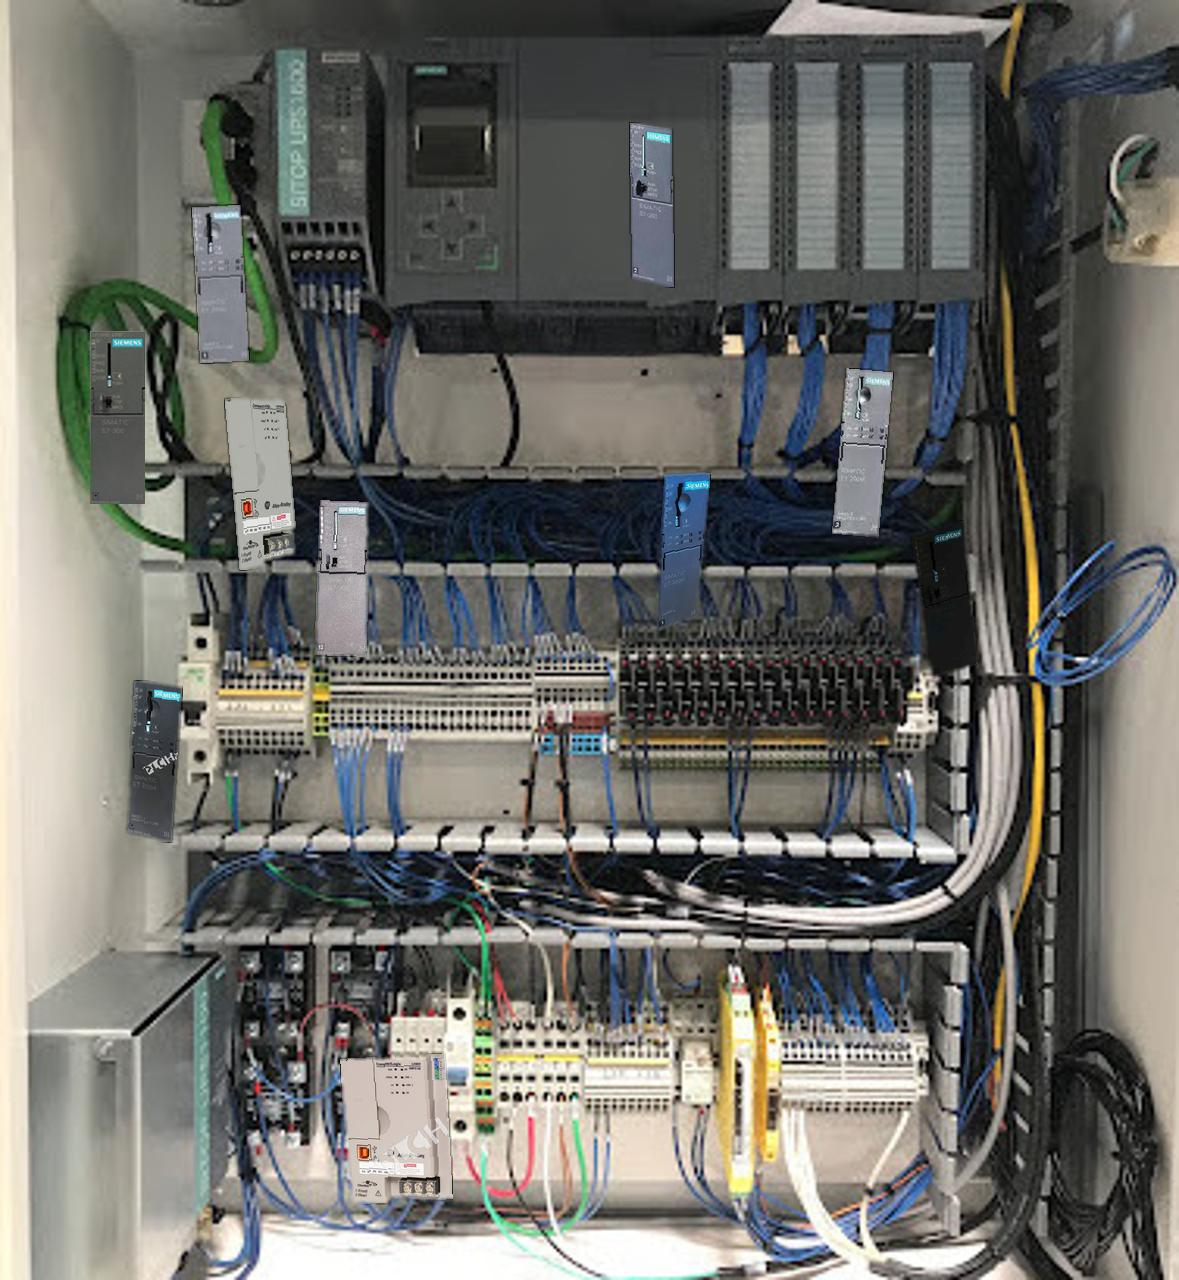AllenBradley: (340, 1054, 452, 1202), (225, 398, 294, 569)
Siemens: (911, 521, 977, 676), (90, 331, 144, 503), (316, 500, 367, 654), (630, 123, 673, 287)
